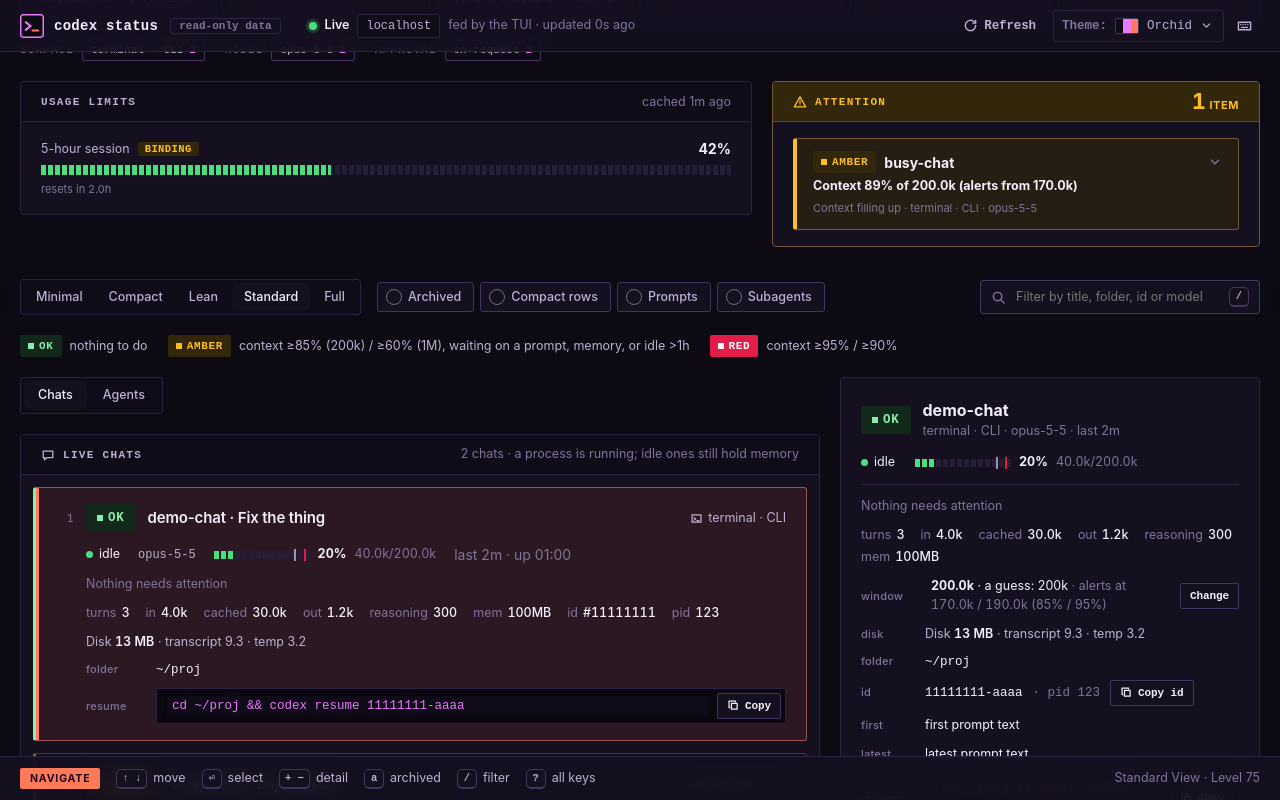
Test: context window control (per chat) › a row edited by hand keeps its percentage when the maximum changes; the other follows the suggestion
(page scrolled)
Click the button with aria-label "Change the context window" at (1210, 596), box 1180,583 -> 1239,609
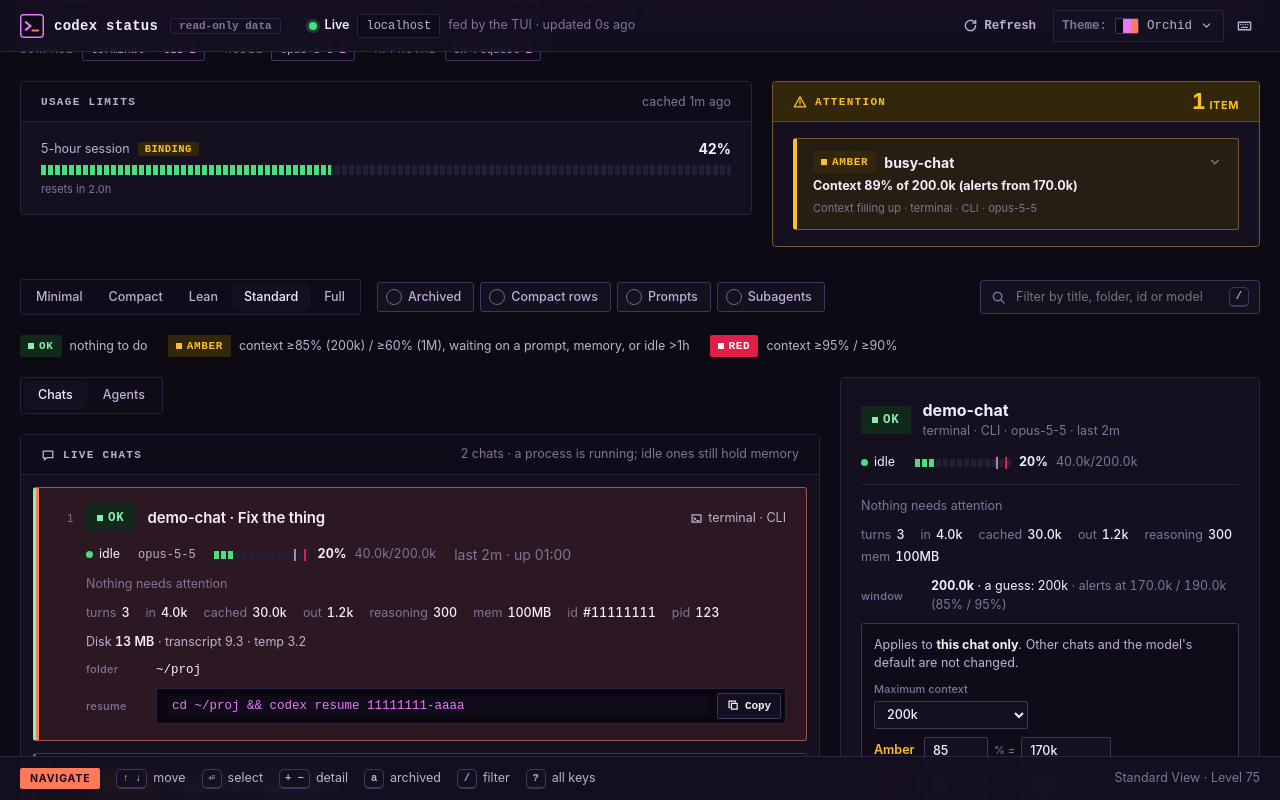
Select "600k" in the dropdown labelled "Maximum context" at (951, 715), box 874,701 -> 1028,729
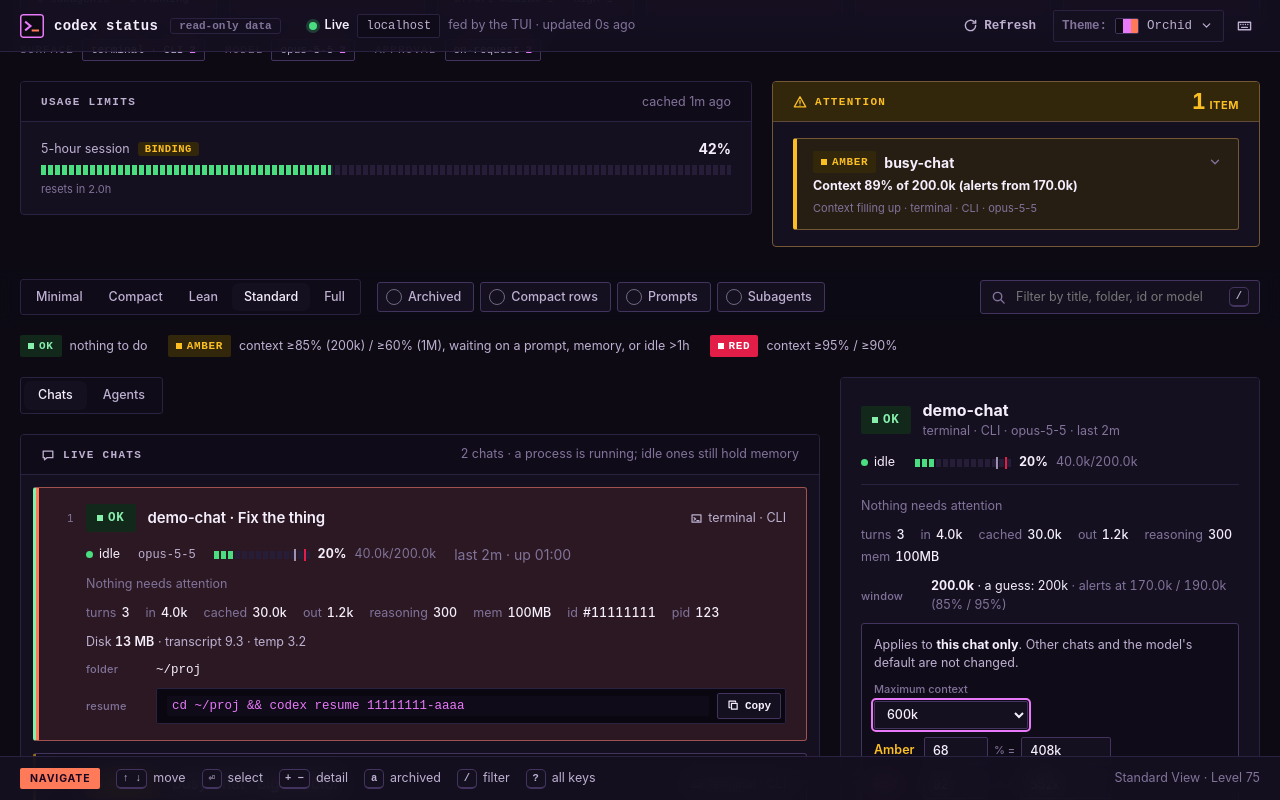
Replace the text in the number field named "Amber percent" with "70" at (956, 751), box 924,737 -> 988,765
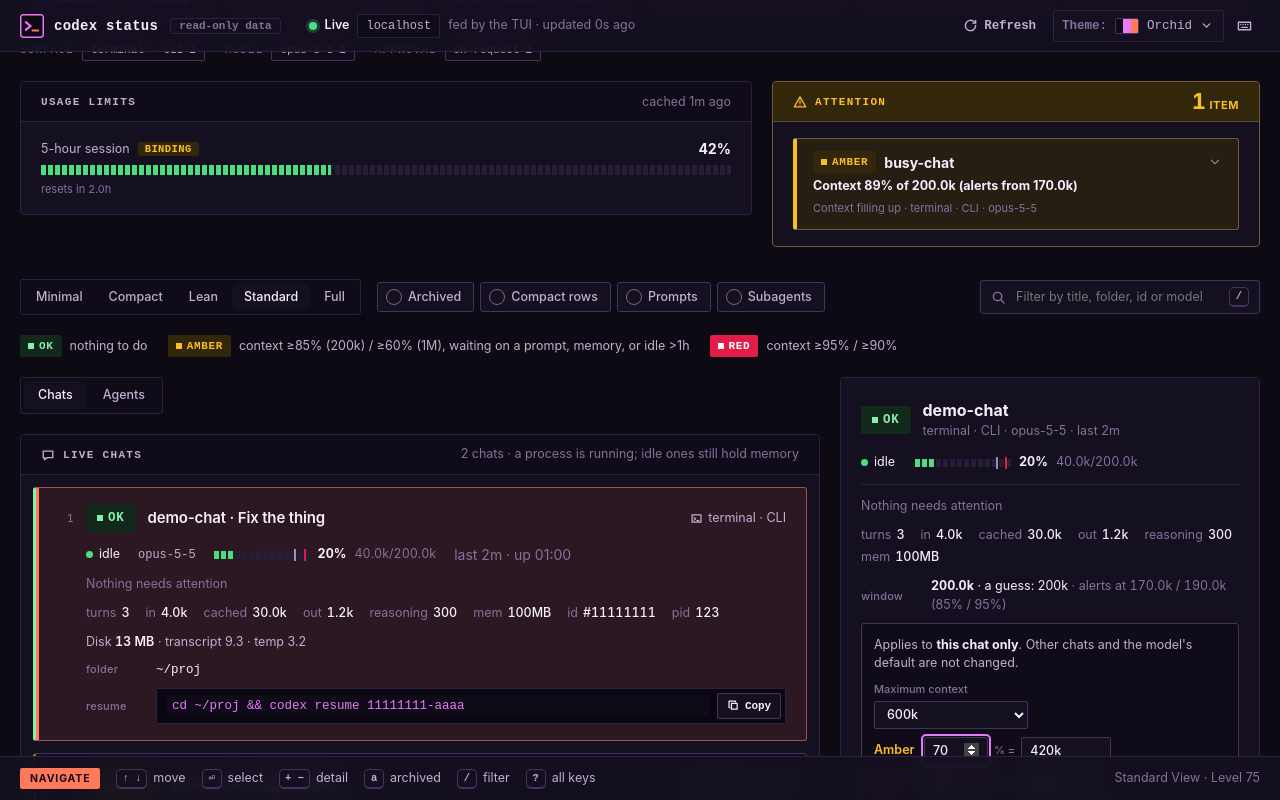
Select "1M (recommended)" in the dropdown labelled "Maximum context" at (951, 715), box 874,701 -> 1028,729
(page scrolled)
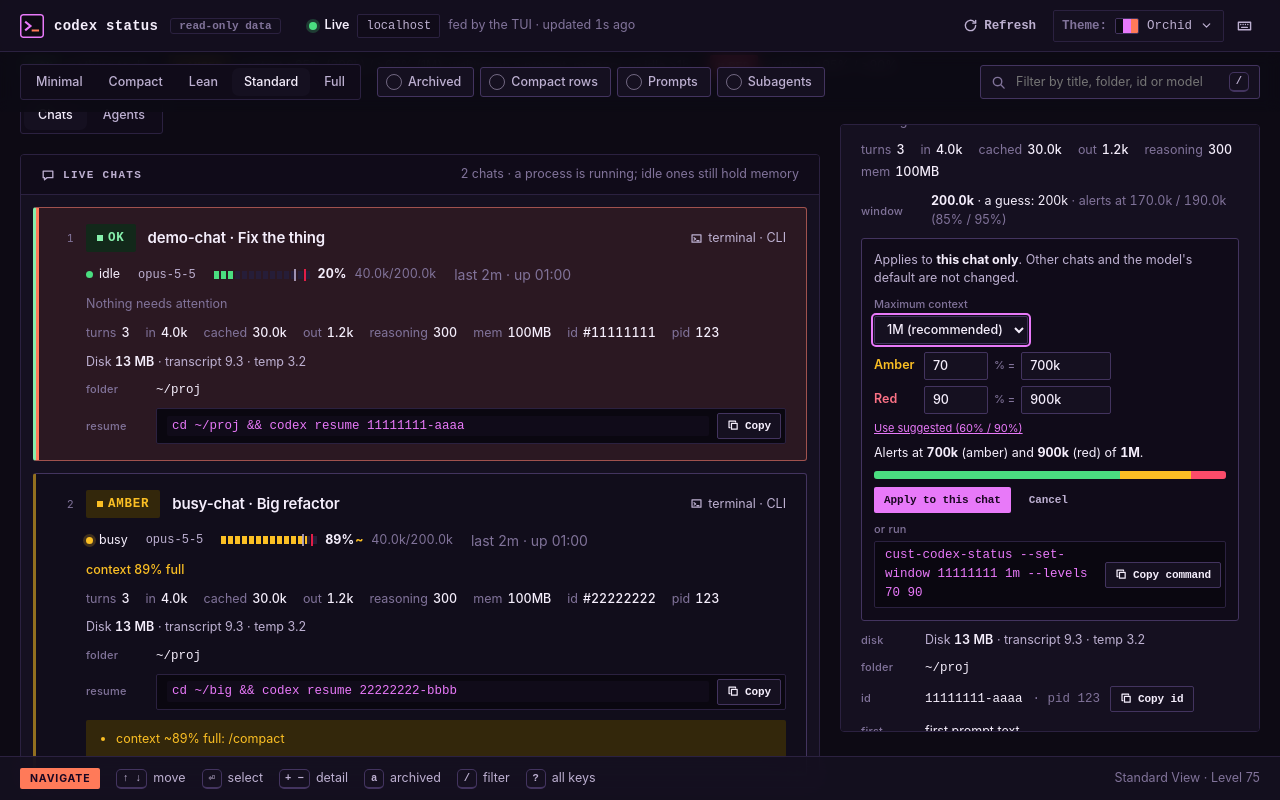
Check: the field named "Amber tokens" holds "700k", box 1021,351 -> 1111,379
Check: the number field named "Red percent" holds "90", box 924,385 -> 988,413
Click the button "Use suggested (60% / 90%)" at (948, 428), box 874,419 -> 1023,436
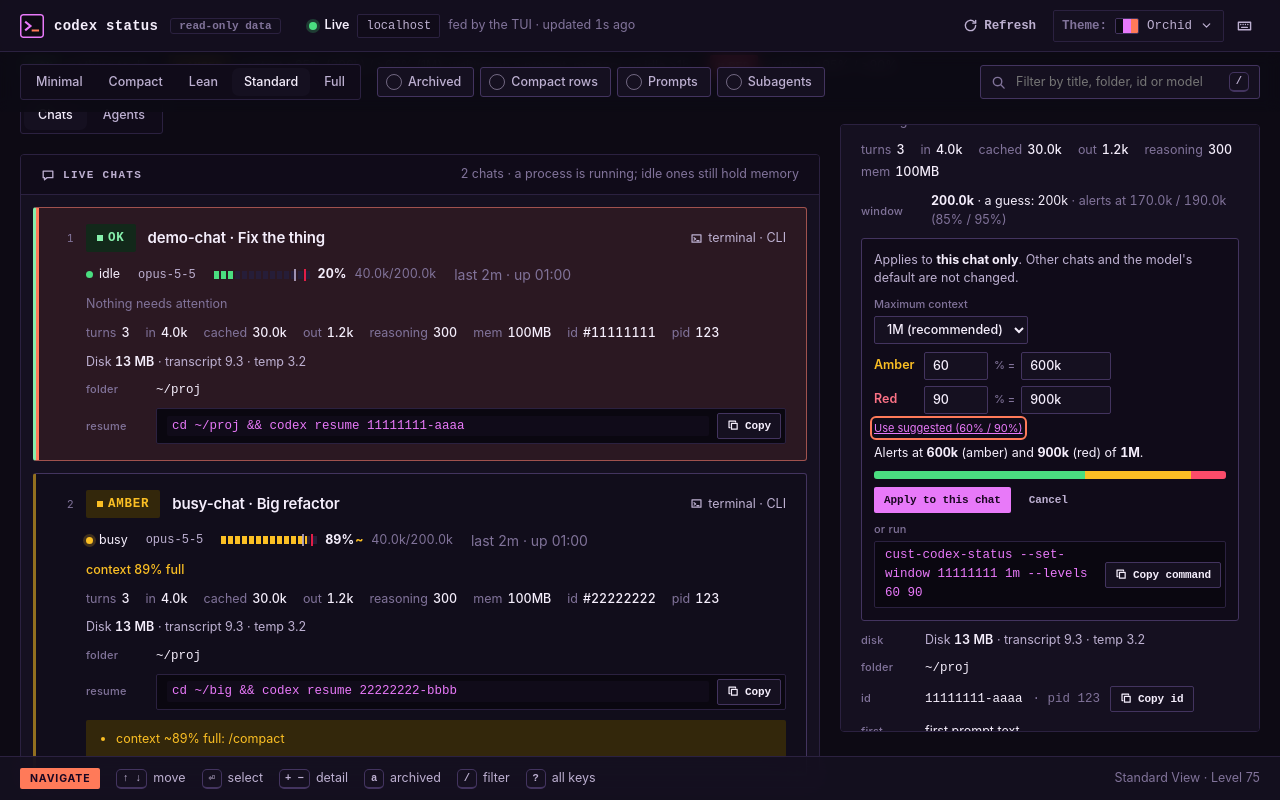
Check: the number field named "Amber percent" holds "60", box 924,351 -> 988,379
Check: the field named "Amber tokens" holds "600k", box 1021,351 -> 1111,379
